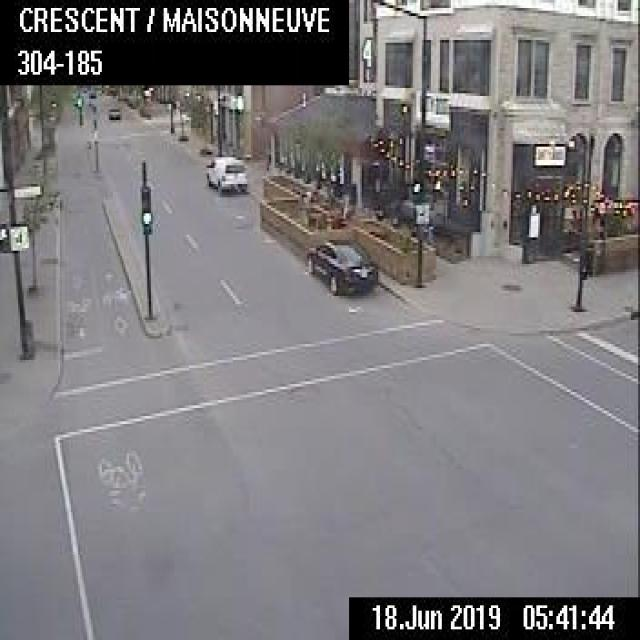vehicle: (304, 235, 378, 293), (204, 153, 245, 192), (106, 102, 120, 117)
